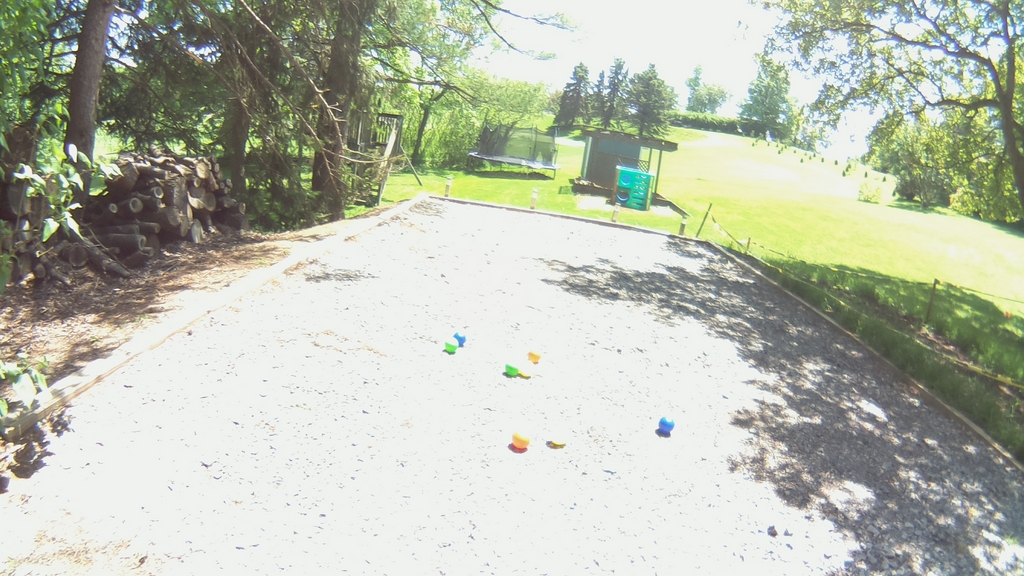ball: (511, 426, 531, 452)
